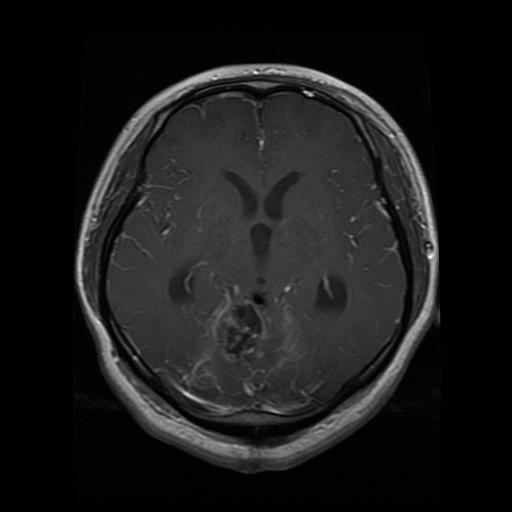Gliomia_tumour: (174, 272, 326, 403)
